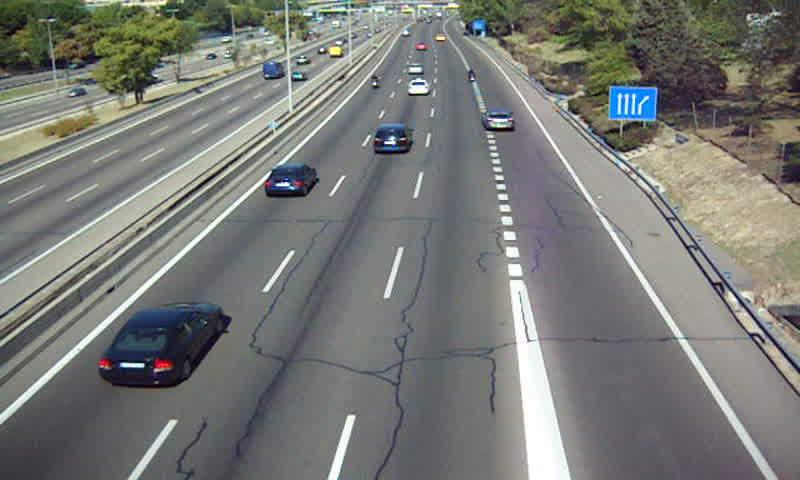car: (98, 302, 224, 386), (264, 164, 318, 196), (372, 124, 413, 154), (481, 109, 515, 132), (408, 79, 430, 96), (407, 62, 422, 74)
motorcycle: (370, 71, 380, 92), (467, 68, 478, 84)
